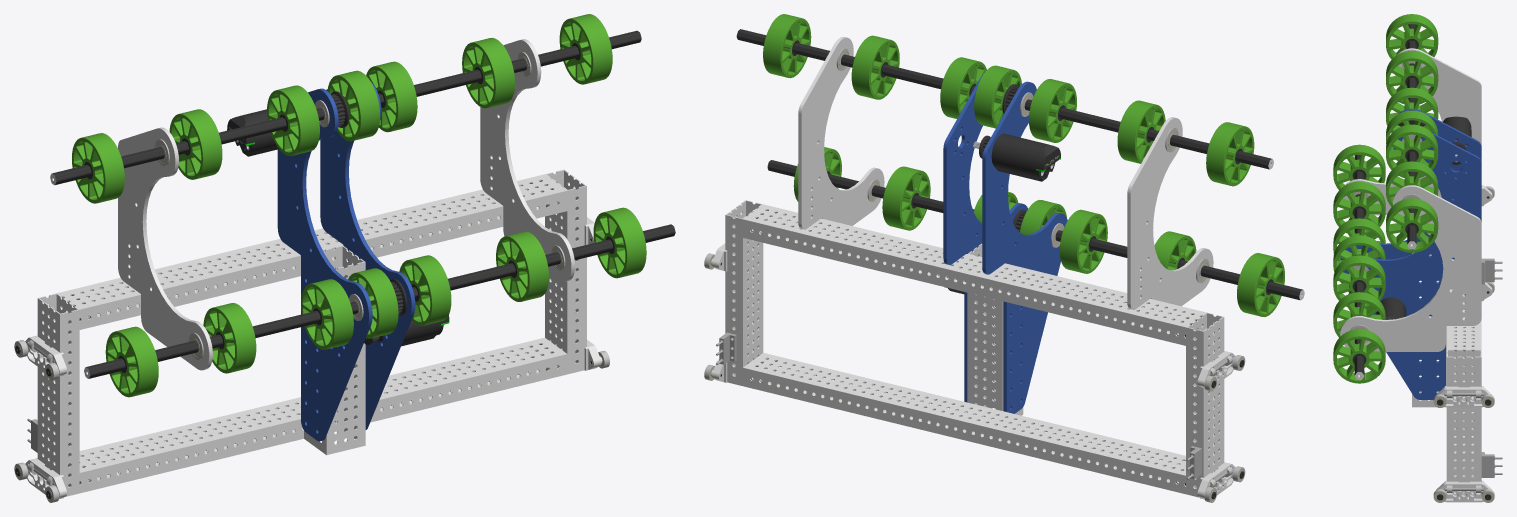
3 views of the same model, side by side, from view 1: azimuth 30°, elevation 25°; view 2: azimuth 150°, elevation 25°; view 3: azimuth 270°, elevation 25° (orthographic). The views are drawn at different scales.
Visible parts, largest first — view 1: 3" Compliant Wheel (35A, 1" Wide, 1/2" Hex Bore) (×14), 2" x 1" x 0.0625" Aluminum Box Tube (25" L, Full Pattern, 0. (×2), Part 3 (×2), Part 4 (×2), 2" x 1" x 0.0625" Aluminum Box Tube (9" L, Full Pattern, 0.5 (×2), 1/2" Rounded Hex (30" L, 13.75mm OD) (×2), 2" x 2" x 0.0625" Aluminum Box Tube (9" L, Full Pattern, 0.5, WCP-0897-001 Rev1 (×2), Kraken X44 Brushless Motor; view 2: 2" x 1" x 0.0625" Aluminum Box Tube (25" L, Full Pattern, 0. (×2), 3" Compliant Wheel (35A, 1" Wide, 1/2" Hex Bore) (×12), Part 3 (×2), Part 4 (×2), 2" x 1" x 0.0625" Aluminum Box Tube (9" L, Full Pattern, 0.5 (×2), 1/2" Rounded Hex (30" L, 13.75mm OD) (×2), 2" x 2" x 0.0625" Aluminum Box Tube (9" L, Full Pattern, 0.5, Kraken X44 Brushless Motor; view 3: 3" Compliant Wheel (35A, 1" Wide, 1/2" Hex Bore) (×14), Part 4 (×2), Part 3 (×2), 2" x 1" x 0.0625" Aluminum Box Tube (9" L, Full Pattern, 0.5, WCP-0897-001 Rev1 (×2), 1/2" Rounded Hex (30" L, 13.75mm OD) (×2), 2" x 1" x 0.0625" Aluminum Box Tube (25" L, Full Pattern, 0. (×2), Kraken X44 Brushless Motor (×2), #25 Chain Attachment Part (×2), 2" x 2" x 0.0625" Aluminum Box Tube (9" L, Full Pattern, 0.5.
Part boxes in pixels (x1=…): 3" Compliant Wheel (35A, 1" Wide, 1/2" Hex Bore) (×14): x1=72, y1=14, x2=646, y2=397; 2" x 1" x 0.0625" Aluminum Box Tube (25" L, Full Pattern, 0. (×2): x1=57, y1=174, x2=567, y2=493; Part 3 (×2): x1=277, y1=81, x2=415, y2=441; Part 4 (×2): x1=118, y1=39, x2=574, y2=370; 2" x 1" x 0.0625" Aluminum Box Tube (9" L, Full Pattern, 0.5 (×2): x1=37, y1=169, x2=586, y2=496; 1/2" Rounded Hex (30" L, 13.75mm OD) (×2): x1=50, y1=30, x2=675, y2=378; 2" x 2" x 0.0625" Aluminum Box Tube (9" L, Full Pattern, 0.5: x1=304, y1=245, x2=365, y2=455; WCP-0897-001 Rev1 (×2): x1=25, y1=335, x2=66, y2=498; Kraken X44 Brushless Motor: x1=227, y1=109, x2=278, y2=156; 2" x 1" x 0.0625" Aluminum Box Tube (25" L, Full Pattern, 0. (×2): x1=743, y1=204, x2=1205, y2=494; 3" Compliant Wheel (35A, 1" Wide, 1/2" Hex Bore) (×12): x1=763, y1=14, x2=1284, y2=316; Part 3 (×2): x1=943, y1=75, x2=1067, y2=413; Part 4 (×2): x1=798, y1=37, x2=1213, y2=314; 2" x 1" x 0.0625" Aluminum Box Tube (9" L, Full Pattern, 0.5 (×2): x1=725, y1=200, x2=1224, y2=497; 1/2" Rounded Hex (30" L, 13.75mm OD) (×2): x1=736, y1=29, x2=1304, y2=300; 2" x 2" x 0.0625" Aluminum Box Tube (9" L, Full Pattern, 0.5: x1=967, y1=243, x2=1023, y2=423; Kraken X44 Brushless Motor: x1=973, y1=133, x2=1060, y2=181; 3" Compliant Wheel (35A, 1" Wide, 1/2" Hex Bore) (×14): x1=1333, y1=14, x2=1438, y2=383; Part 4 (×2): x1=1340, y1=48, x2=1481, y2=351; Part 3 (×2): x1=1340, y1=108, x2=1481, y2=399; 2" x 1" x 0.0625" Aluminum Box Tube (9" L, Full Pattern, 0.5: x1=1446, y1=349, x2=1481, y2=493; WCP-0897-001 Rev1 (×2): x1=1436, y1=386, x2=1491, y2=502; 1/2" Rounded Hex (30" L, 13.75mm OD) (×2): x1=1354, y1=24, x2=1416, y2=379; 2" x 1" x 0.0625" Aluminum Box Tube (25" L, Full Pattern, 0. (×2): x1=1446, y1=289, x2=1481, y2=476; Kraken X44 Brushless Motor (×2): x1=1376, y1=116, x2=1471, y2=319; #25 Chain Attachment Part (×2): x1=1481, y1=258, x2=1502, y2=477; 2" x 2" x 0.0625" Aluminum Box Tube (9" L, Full Pattern, 0.5: x1=1412, y1=252, x2=1446, y2=407.
Size of the model in its own units: 0.762 by 0.4641 by 0.2465.
